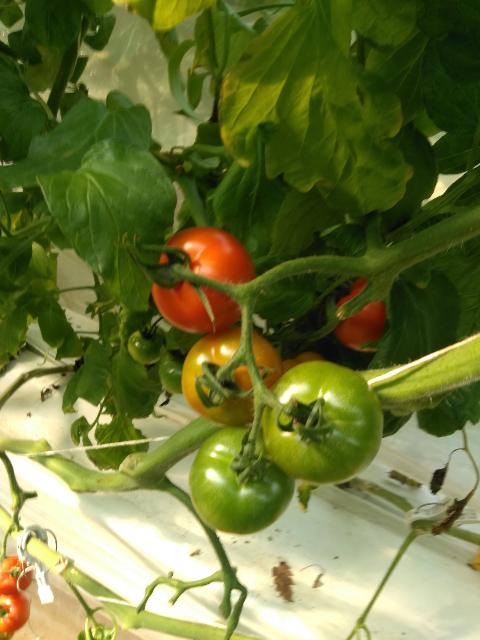l_fully_ripened: (152, 225, 258, 334), (333, 276, 386, 352), (0, 554, 33, 596), (0, 593, 31, 633)
l_green: (262, 360, 384, 485), (189, 427, 295, 535), (128, 324, 167, 364), (158, 349, 187, 395)
l_half_ripened: (181, 326, 284, 427)
